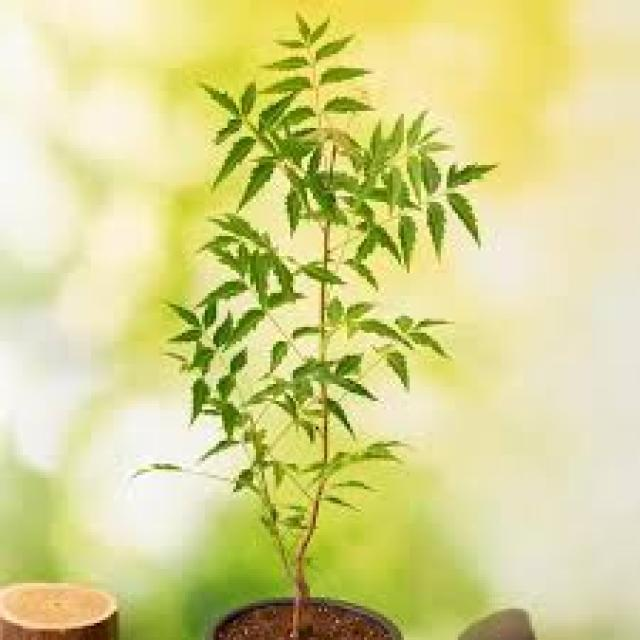Neem-Tree: (92, 9, 510, 592)
